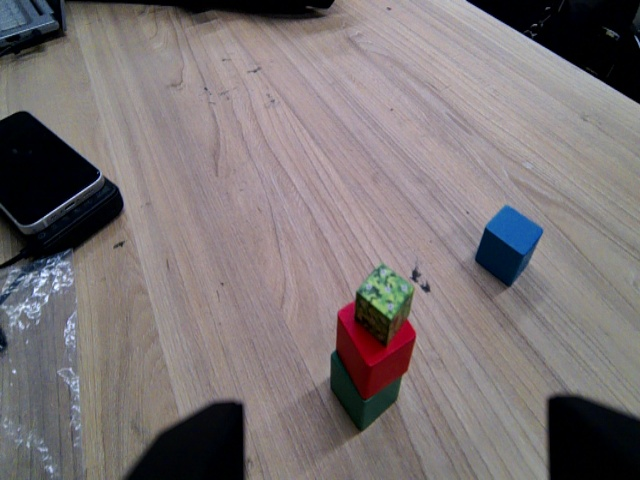grass: (356, 262, 415, 339)
